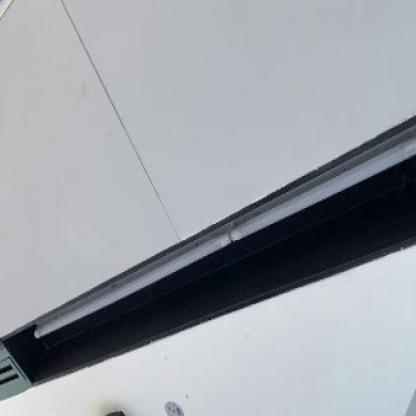light_off: (26, 90, 416, 365)
